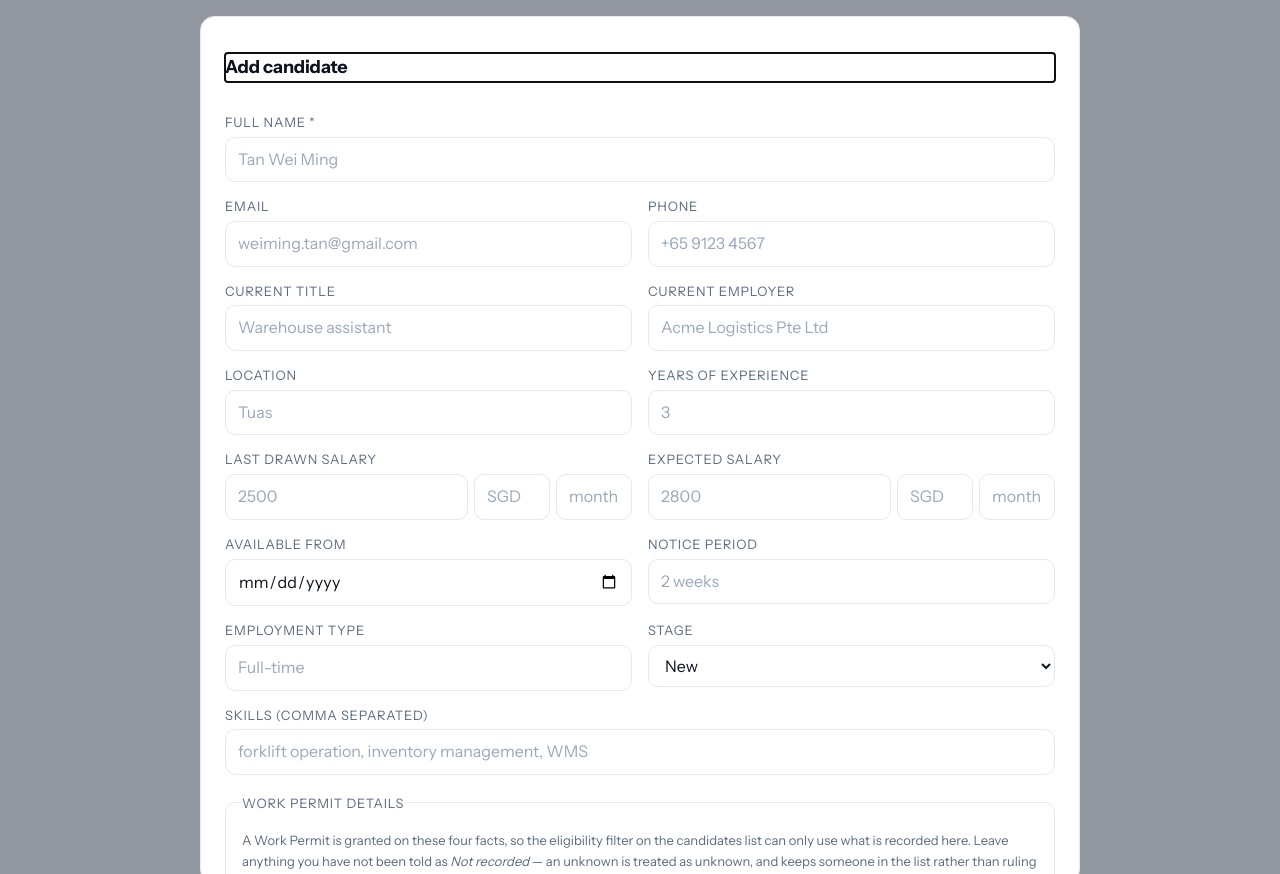
Test case: a candidate a colleague already holds › renders the masked name as given, and never the raw one
Step 1. Type "Wei Ming Tan" into the field labelled "Full name *" → coordinates (640, 159), box [225,137,1055,182]
(page scrolled)
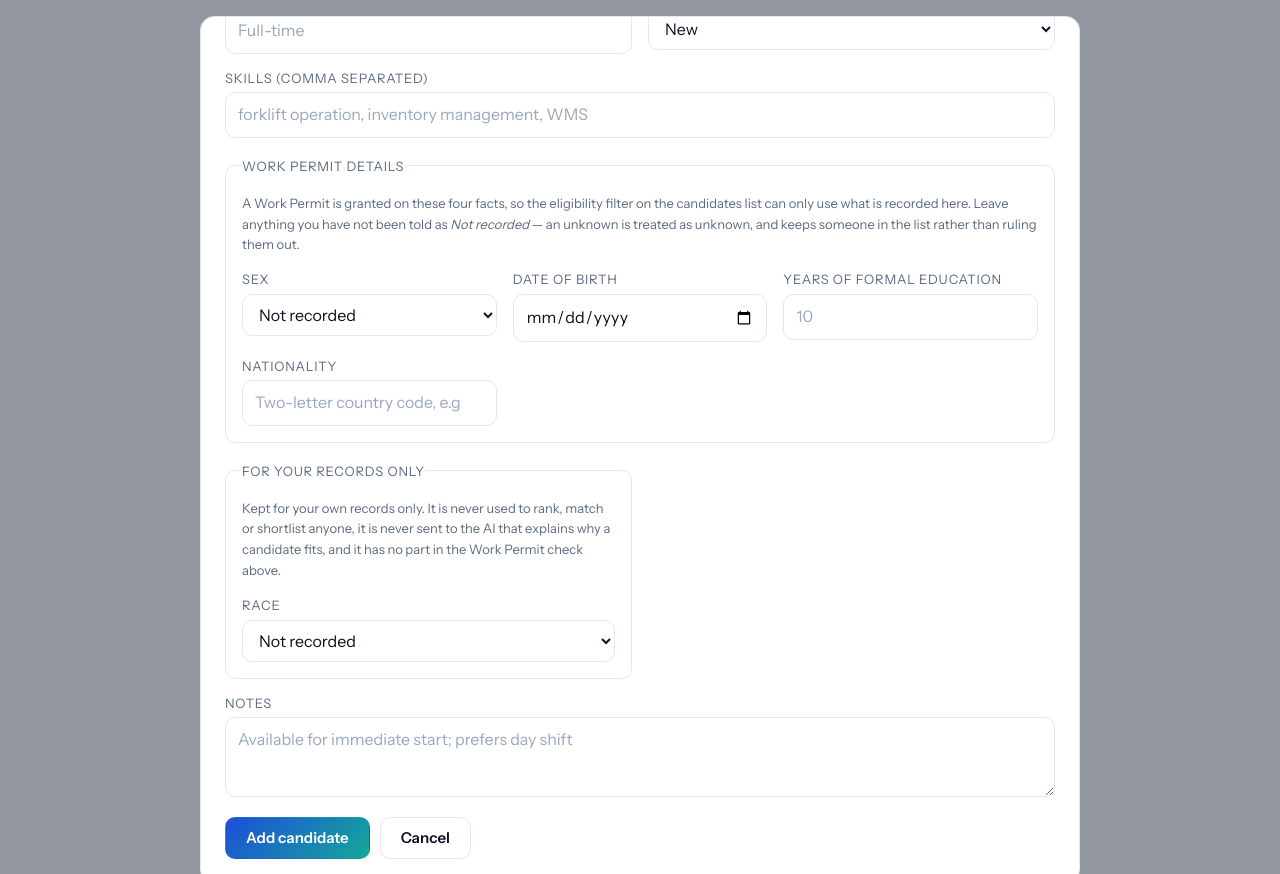
Step 2. Click the button "Add candidate" → coordinates (297, 838), box [225,818,370,860]
(page scrolled)
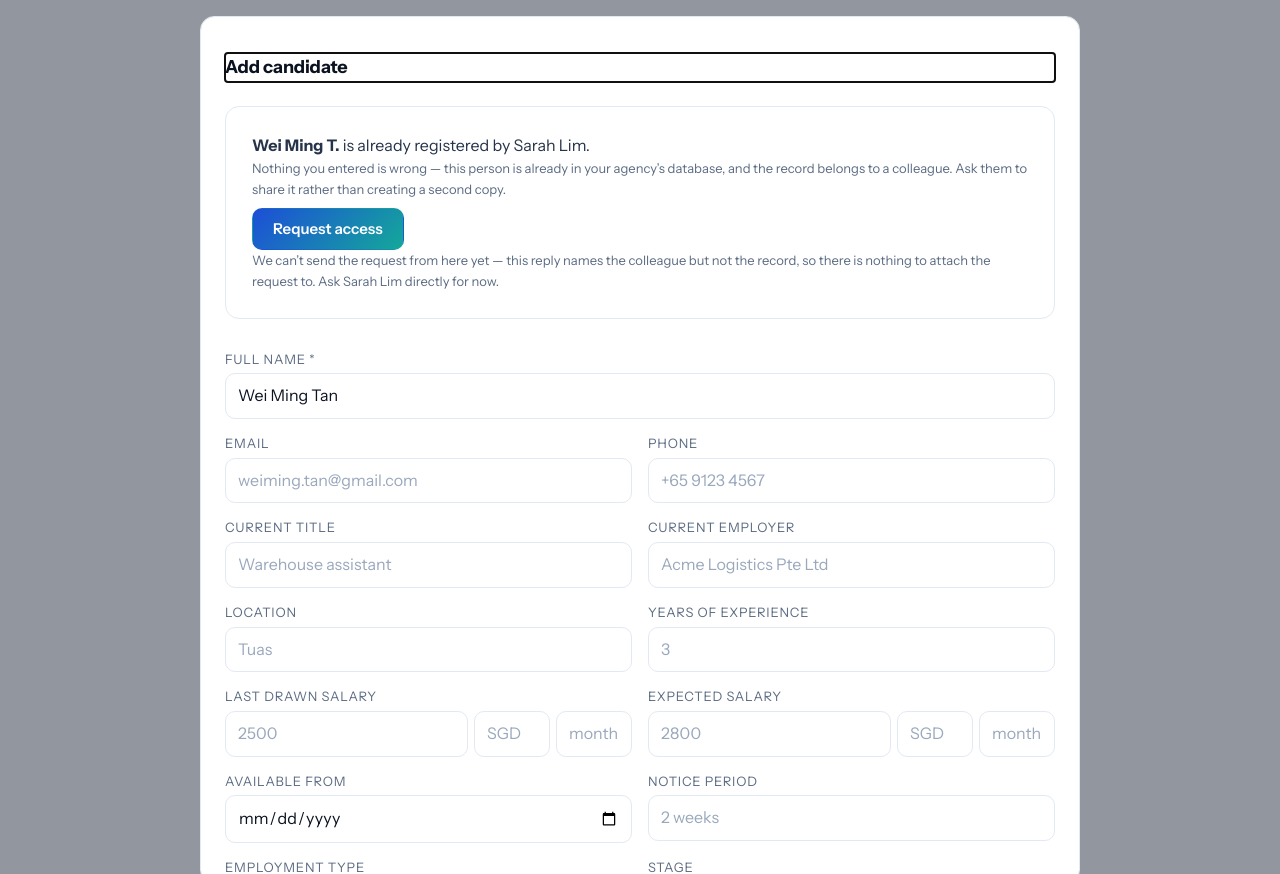
Expected: the text "Wei Ming T." is shown, [252,135,340,155]
